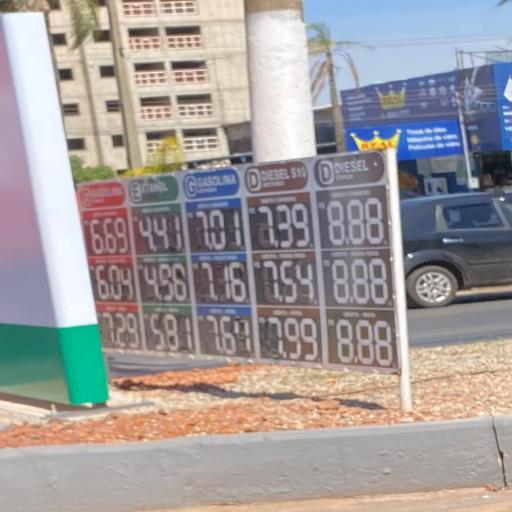ETANOL: (128, 178, 176, 205)
GASOLINA C: (179, 169, 242, 200), (79, 180, 126, 207)
S10: (242, 160, 310, 195)
placa: (77, 149, 409, 378)
preco: (253, 202, 316, 251), (191, 209, 246, 253), (132, 212, 185, 257), (81, 214, 129, 255)
